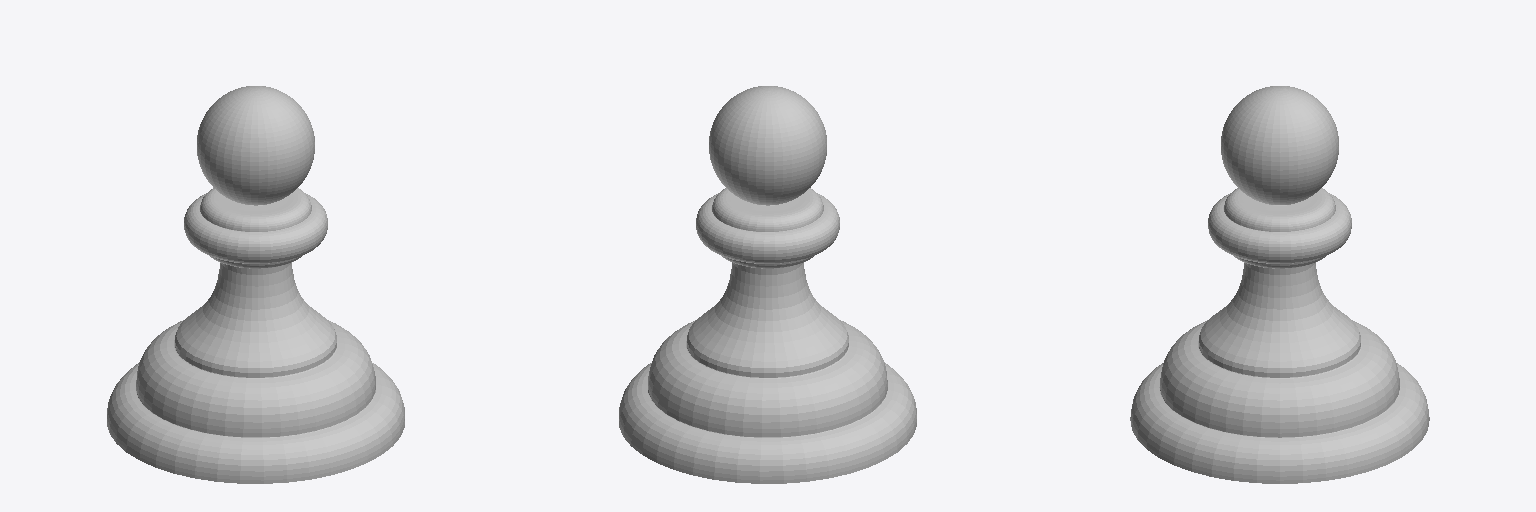
The model's file is whitesolider.obj.
The picture shows the model from 3 angles: view 1: azimuth 30°, elevation 25°; view 2: azimuth 150°, elevation 25°; view 3: azimuth 270°, elevation 25°; orthographic projection.
Parts seen in each view (by area): view 1: white_pawn1_Mesh.003; view 2: white_pawn1_Mesh.003; view 3: white_pawn1_Mesh.003.
Part boxes in pixels (x1,y1,x2,y2): white_pawn1_Mesh.003: (107,86,404,483); white_pawn1_Mesh.003: (619,86,916,483); white_pawn1_Mesh.003: (1130,86,1429,483).
Bounding box in the file's own units: 0.1509 × 0.1837 × 0.1509.